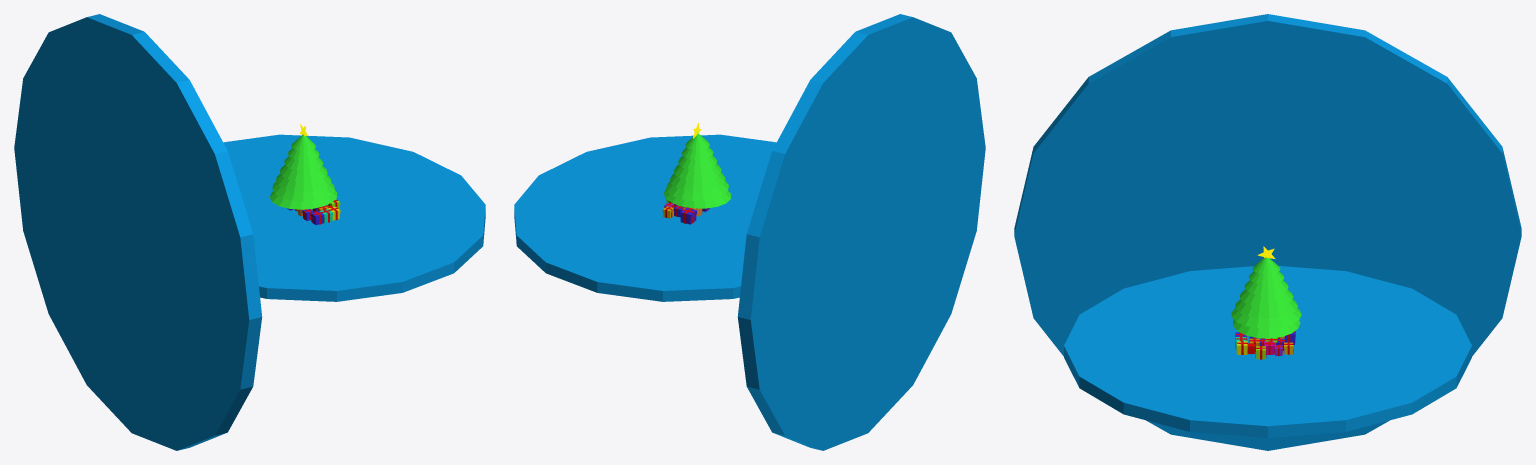
File: tree3.glb
3 views of the same model, side by side, from view 1: azimuth 30°, elevation 25°; view 2: azimuth 150°, elevation 25°; view 3: azimuth 270°, elevation 25° (orthographic). The views are drawn at different scales.
Parts seen in each view (by area): view 1: Cylinder.001, Cylinder, Cone; view 2: Cylinder.001, Cylinder, Cone; view 3: Cylinder.001, Cylinder, Cone.
Part boxes in pixels (left/top/right/bottom): Cylinder.001: left=14, top=14, right=262, bottom=450; Cylinder: left=223, top=134, right=485, bottom=301; Cone: left=270, top=134, right=337, bottom=216; Cylinder.001: left=737, top=14, right=985, bottom=450; Cylinder: left=514, top=134, right=776, bottom=301; Cone: left=663, top=133, right=731, bottom=216; Cylinder.001: left=1014, top=14, right=1521, bottom=450; Cylinder: left=1064, top=266, right=1471, bottom=437; Cone: left=1231, top=257, right=1301, bottom=338.
Bounding box in the file's own units: 42.31 × 48.87 × 52.27.
